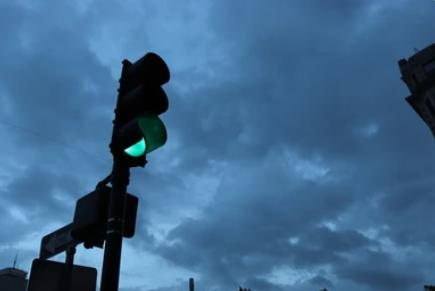green_light: (109, 52, 171, 168)
